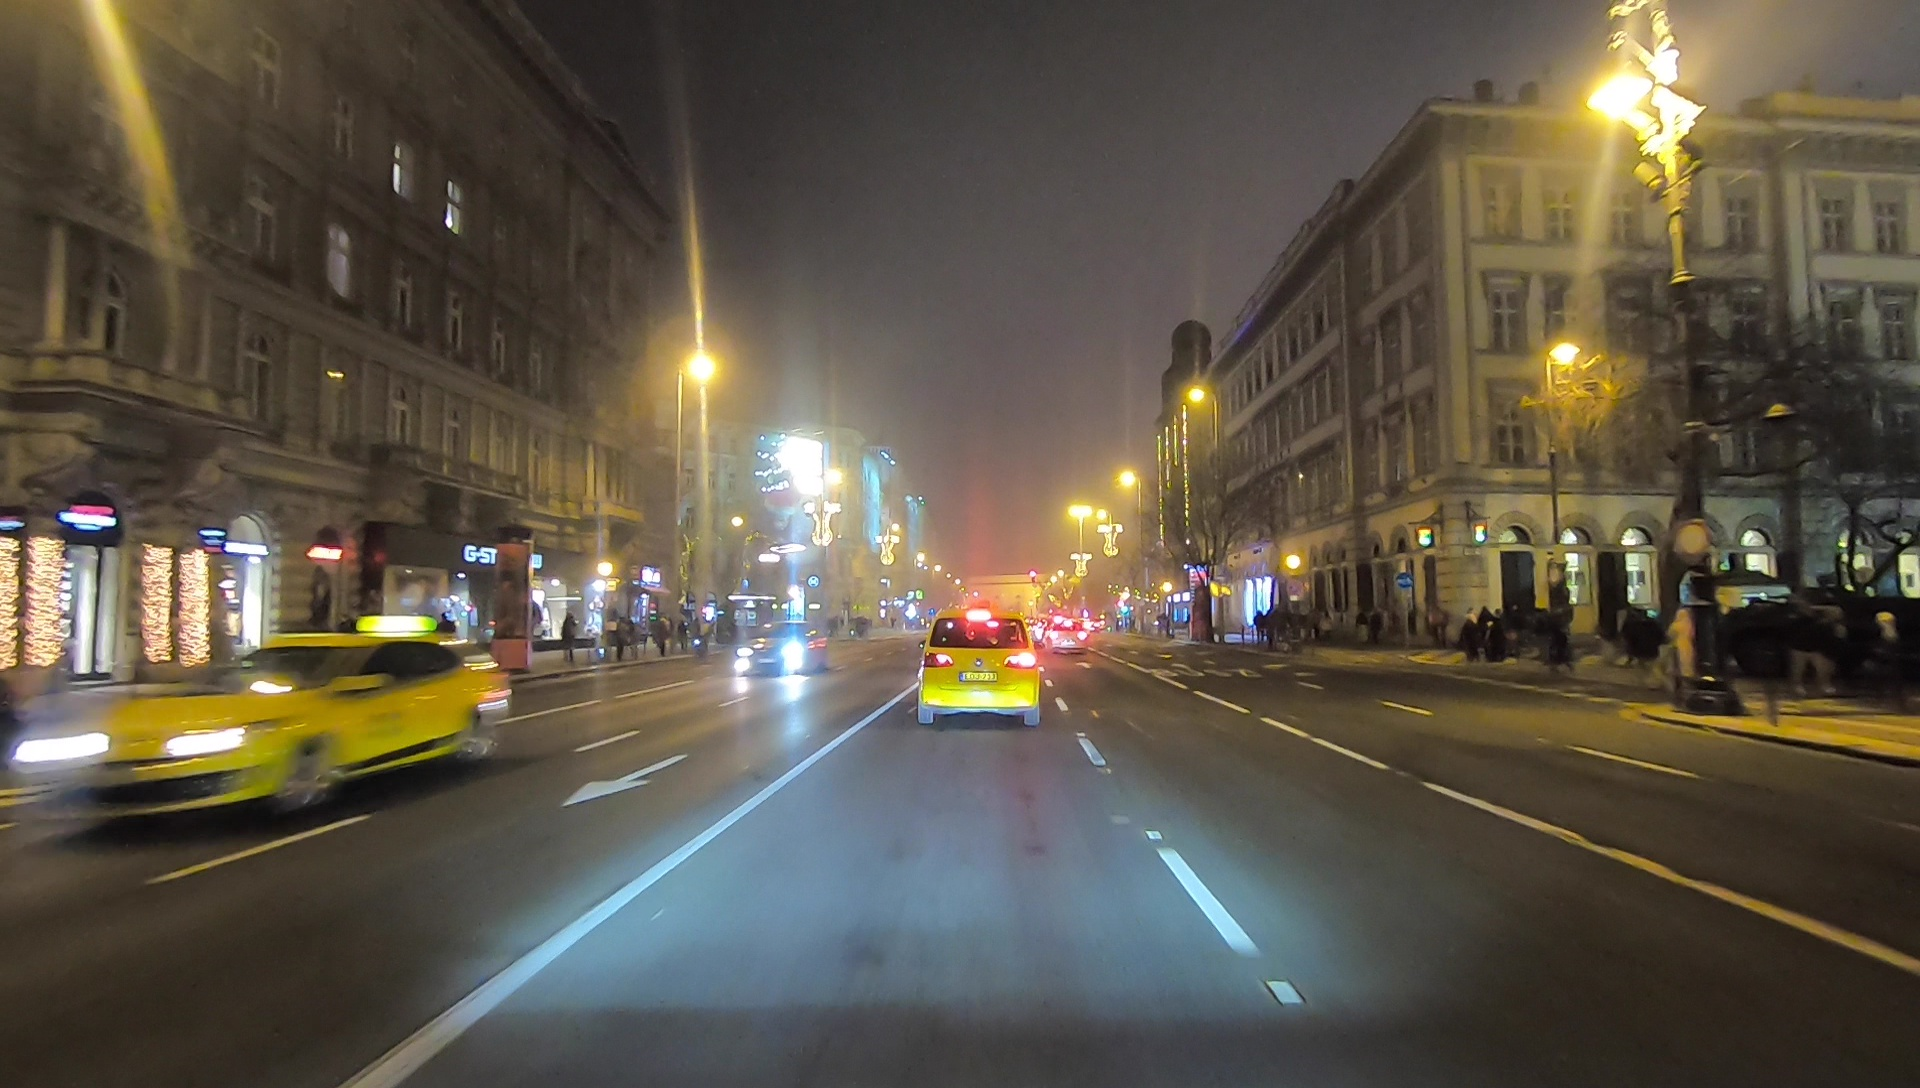person: (1669, 613, 1693, 702), (1636, 610, 1662, 673), (610, 611, 632, 663), (1554, 604, 1571, 669), (1464, 610, 1484, 665), (1488, 610, 1508, 660), (649, 611, 669, 658), (562, 615, 576, 667), (1375, 606, 1386, 649)
